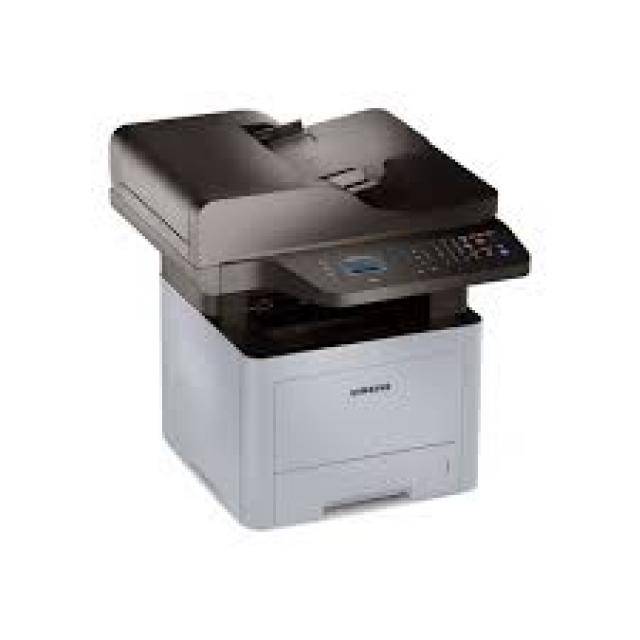printer: (104, 108, 534, 535)
